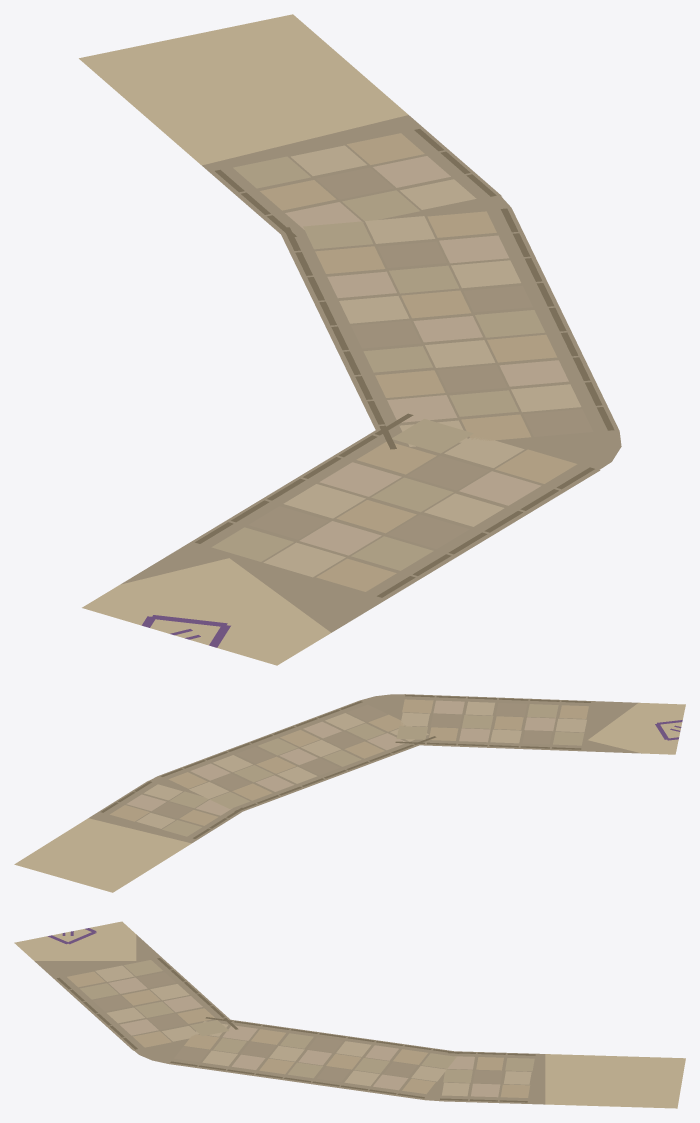
Rendered from route-yard_n-pyramid_n-walk.glb.
3 views of the same model, one above another, from view 1: azimuth 30°, elevation 25°; view 2: azimuth 150°, elevation 25°; view 3: azimuth 270°, elevation 25° (orthographic). The views are drawn at different scales.
Parts seen in each view (by area): view 1: Surveyed floor · route-yard_n-pyramid_n-walk, Scale Yard to North Pyramid / #C2AE8D, Scale Yard to North Pyramid / #C9B798, Scale Yard to North Pyramid / #BDAD8E, Scale Yard to North Pyramid / #C7B399, Scale Yard to North Pyramid / #AE9D84, Scale Yard to North Pyramid / #85775D; view 2: Surveyed floor · route-yard_n-pyramid_n-walk, Scale Yard to North Pyramid / #C2AE8D, Scale Yard to North Pyramid / #C9B798, Scale Yard to North Pyramid / #BDAD8E, Scale Yard to North Pyramid / #C7B399, Scale Yard to North Pyramid / #AE9D84, Scale Yard to North Pyramid / #85775D; view 3: Surveyed floor · route-yard_n-pyramid_n-walk, Scale Yard to North Pyramid / #C2AE8D, Scale Yard to North Pyramid / #C9B798, Scale Yard to North Pyramid / #BDAD8E, Scale Yard to North Pyramid / #C7B399, Scale Yard to North Pyramid / #AE9D84, Scale Yard to North Pyramid / #85775D.
Boxes of the visible parts, x1,y1,x2,y2 form: Surveyed floor · route-yard_n-pyramid_n-walk: (79,14,621,665); Scale Yard to North Pyramid / #C2AE8D: (260,133,577,591); Scale Yard to North Pyramid / #C9B798: (263,145,581,577); Scale Yard to North Pyramid / #BDAD8E: (211,156,545,570); Scale Yard to North Pyramid / #C7B399: (285,156,568,555); Scale Yard to North Pyramid / #AE9D84: (249,167,593,548); Scale Yard to North Pyramid / #85775D: (195,129,614,597); Surveyed floor · route-yard_n-pyramid_n-walk: (14,694,685,892); Scale Yard to North Pyramid / #C2AE8D: (110,699,588,825); Scale Yard to North Pyramid / #C9B798: (136,701,586,828); Scale Yard to North Pyramid / #BDAD8E: (162,704,584,836); Scale Yard to North Pyramid / #C7B399: (126,700,555,815); Scale Yard to North Pyramid / #AE9D84: (153,703,551,818); Scale Yard to North Pyramid / #85775D: (101,694,590,838); Surveyed floor · route-yard_n-pyramid_n-walk: (14,921,685,1108); Scale Yard to North Pyramid / #C2AE8D: (67,971,530,1097); Scale Yard to North Pyramid / #C9B798: (95,965,531,1096); Scale Yard to North Pyramid / #BDAD8E: (80,960,534,1082); Scale Yard to North Pyramid / #C7B399: (108,977,500,1097); Scale Yard to North Pyramid / #AE9D84: (93,972,502,1083); Scale Yard to North Pyramid / #85775D: (57,958,535,1102).
Bounding box in the file's own units: 25.97 × 0.026 × 39.42.
